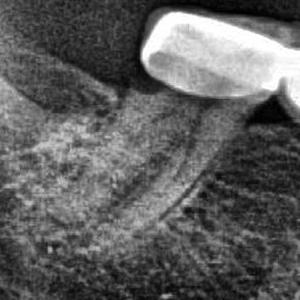tooth: (52, 12, 298, 250)
